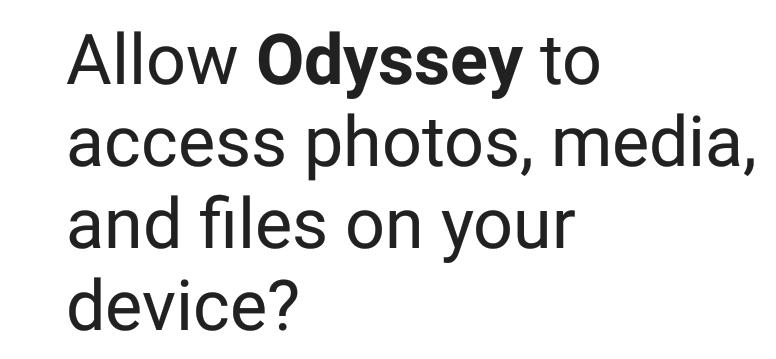TextView: (1, 1, 775, 358)
